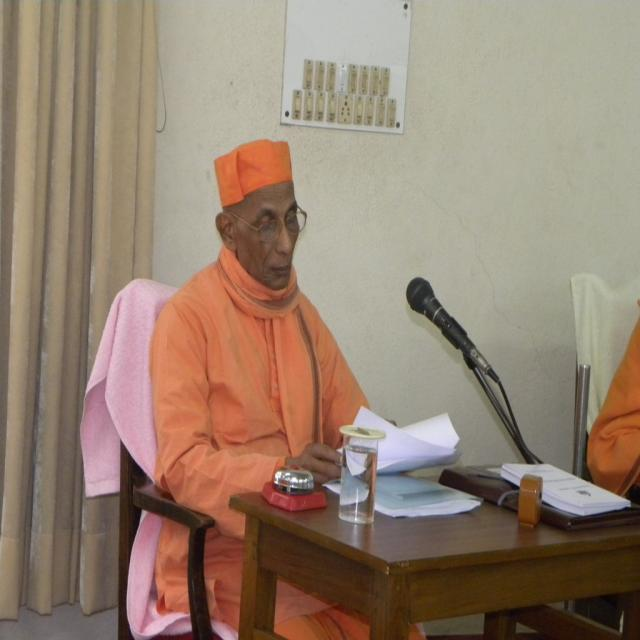chair: (87, 276, 235, 640), (570, 272, 640, 488)
desk: (235, 463, 640, 639)
person: (150, 140, 372, 638), (584, 294, 640, 498)
